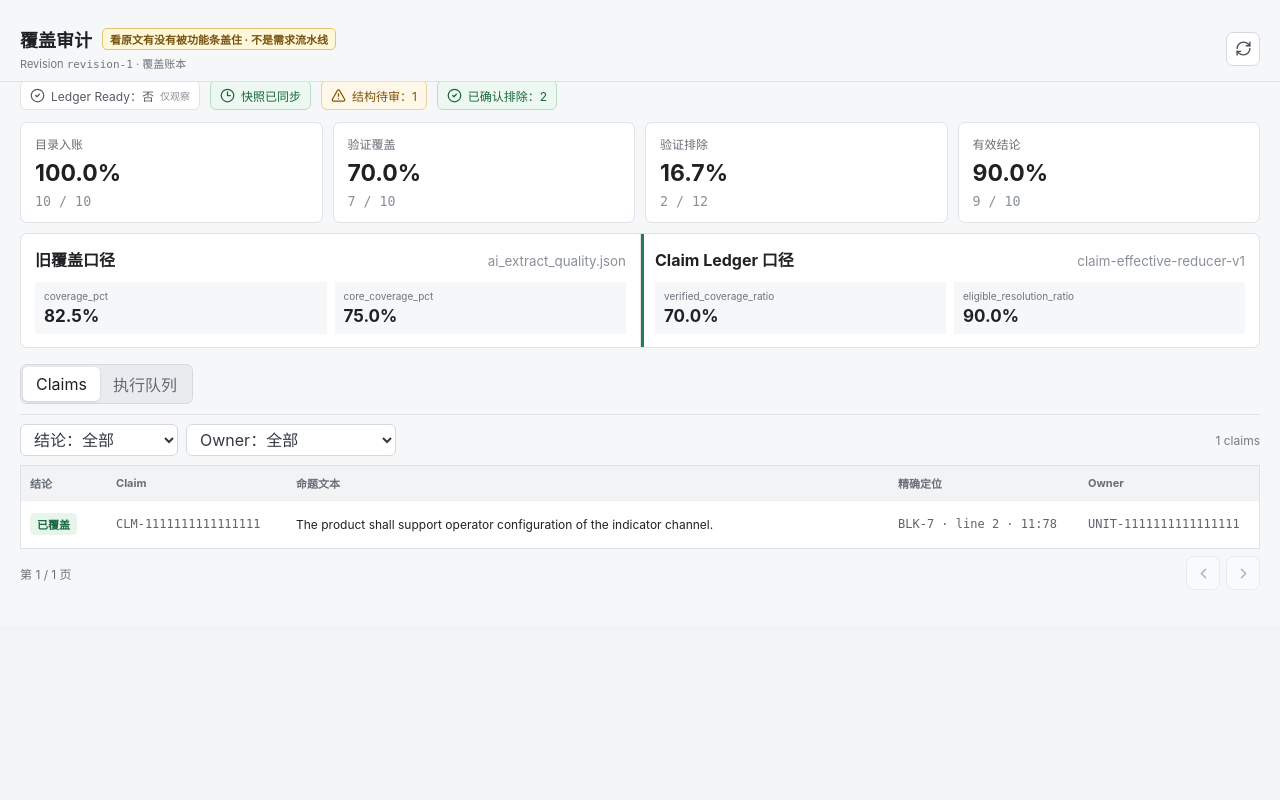
it: ClaimLedger › loads coverage edges and review events only for the pinned revision
What coordinates should you click on to do the following:
click the row with test id "claim-row"
I would click on:
 (640, 524)
Its box is top-left (21, 500), bottom-right (1259, 548).
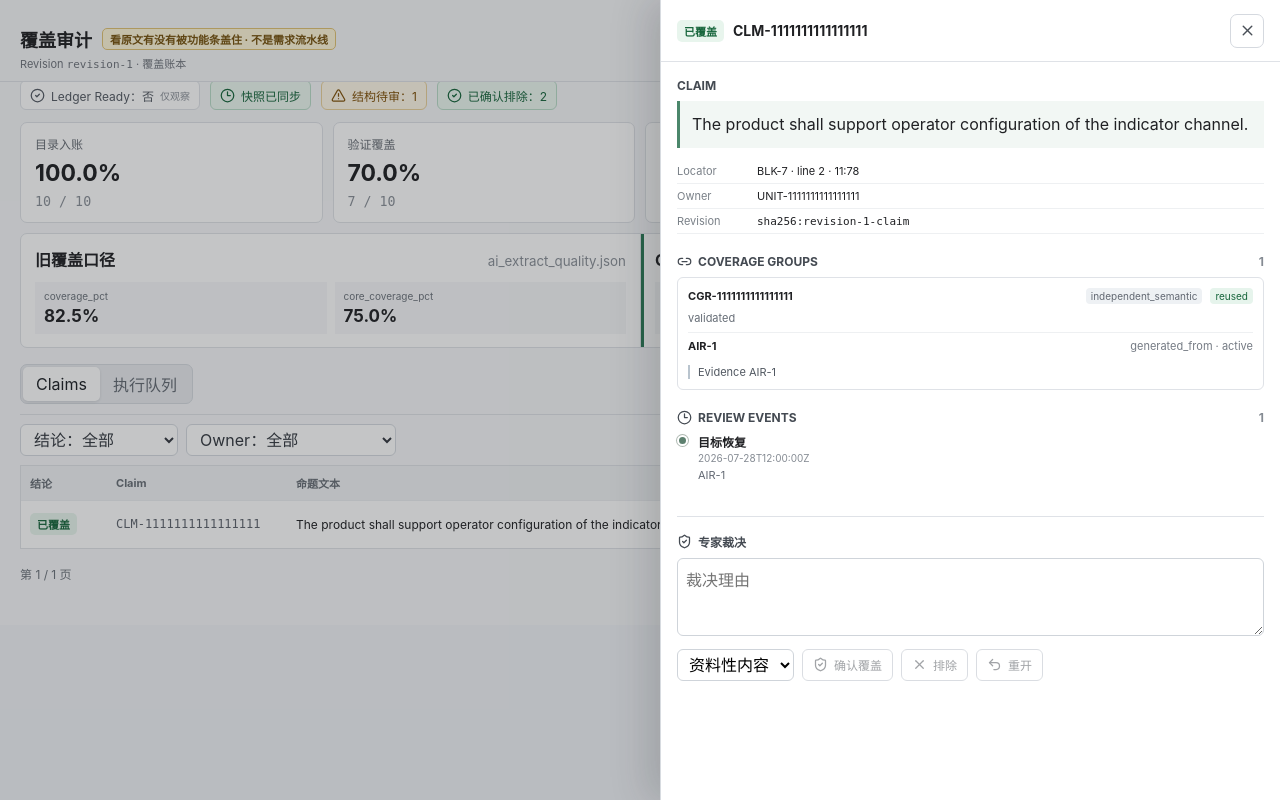
Check: the dialog with test id "claim-detail" shows "AIR-1", box top-left (688, 339), bottom-right (716, 353)
Check: the element with test id "claim-group" shows "independent_semantic", box top-left (1091, 290), bottom-right (1197, 302)
Check: the list item with test id "claim-event" shows "目标恢复", box top-left (698, 435), bottom-right (746, 450)
